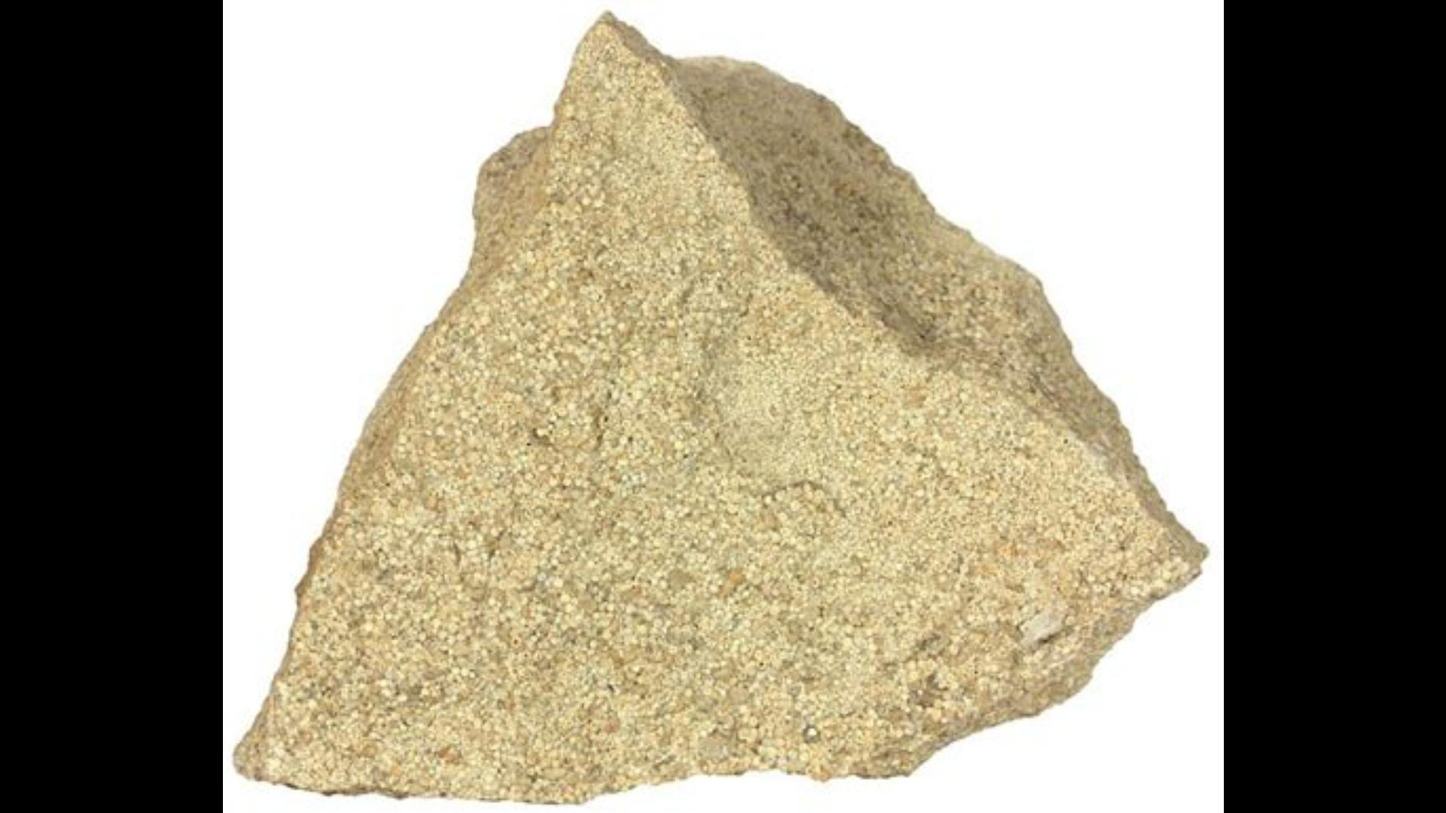rock: (235, 17, 1202, 798)
